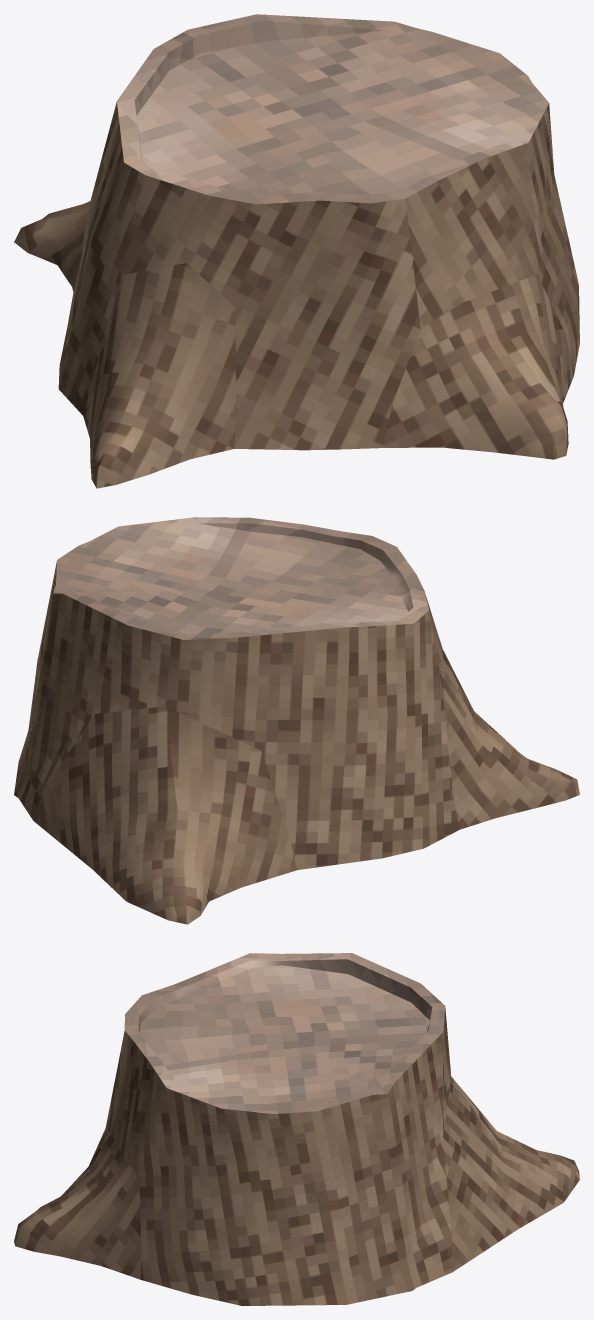
Rendered from Stump.fbx.
3 renders of one model, top to bottom at view 1: azimuth 30°, elevation 25°; view 2: azimuth 150°, elevation 25°; view 3: azimuth 270°, elevation 25°, orthographic. The views are drawn at different scales.
Parts seen in each view (by area): view 1: Stump; view 2: Stump; view 3: Stump.
Part boxes in pixels (x1=…): Stump: x1=14, y1=14, x2=579, y2=488; Stump: x1=14, y1=517, x2=579, y2=924; Stump: x1=14, y1=953, x2=579, y2=1305.
Bounding box in the file's own units: 222 × 101 × 255.
Materials: 1 (1 with a texture image).
